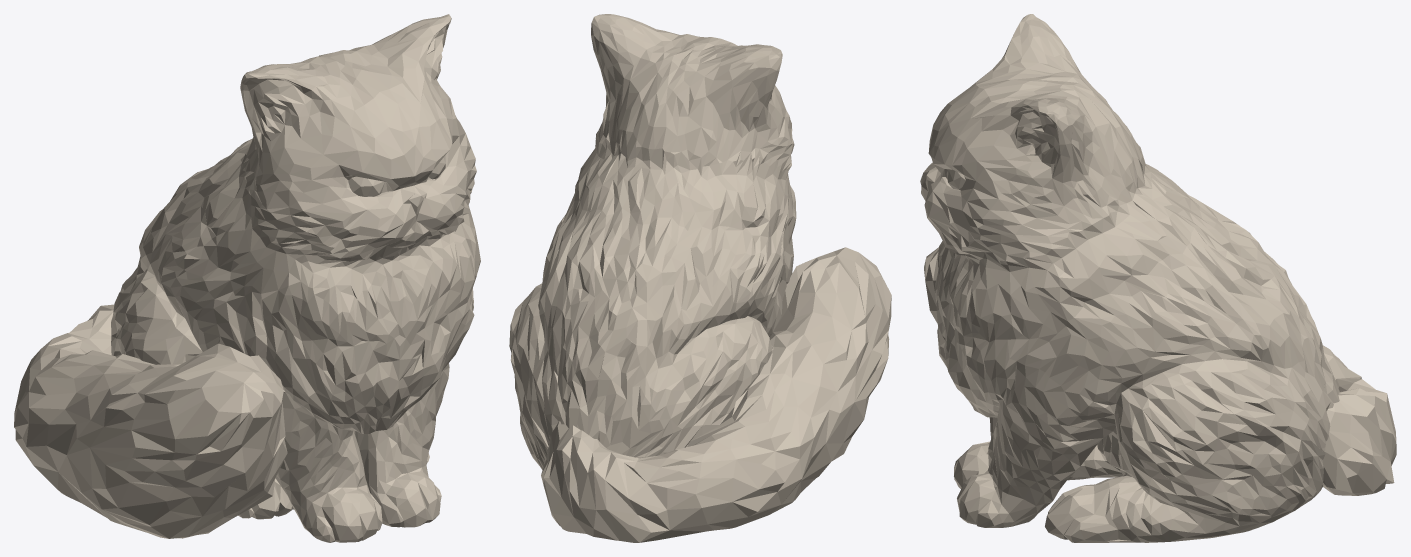
Rendered from persian.glb.
3 renders of one model, left to right at view 1: azimuth 30°, elevation 25°; view 2: azimuth 150°, elevation 25°; view 3: azimuth 270°, elevation 25°, orthographic. The views are drawn at different scales.
Parts seen in each view (by area): view 1: persian-cat-donut-without-glasses-and-crown.stl; view 2: persian-cat-donut-without-glasses-and-crown.stl; view 3: persian-cat-donut-without-glasses-and-crown.stl.
Part boxes in pixels (left/top/right/bottom): persian-cat-donut-without-glasses-and-crown.stl: left=14, top=14, right=480, bottom=542; persian-cat-donut-without-glasses-and-crown.stl: left=509, top=14, right=891, bottom=542; persian-cat-donut-without-glasses-and-crown.stl: left=920, top=14, right=1396, bottom=542.
Size of the model in its own units: 0.8322 by 1 by 0.988.
